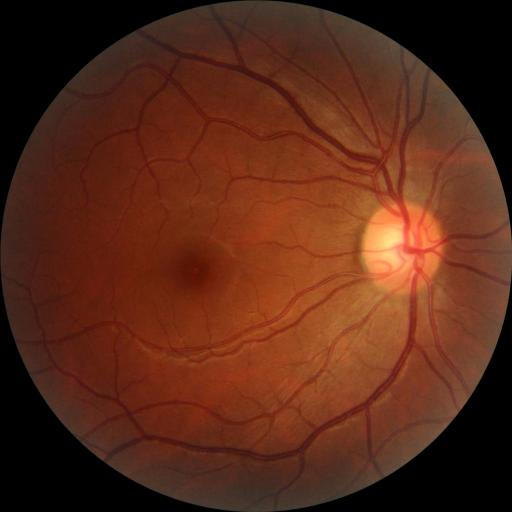Optic Cup: (385, 224, 423, 265)
Optic Disc: (362, 203, 445, 294)
